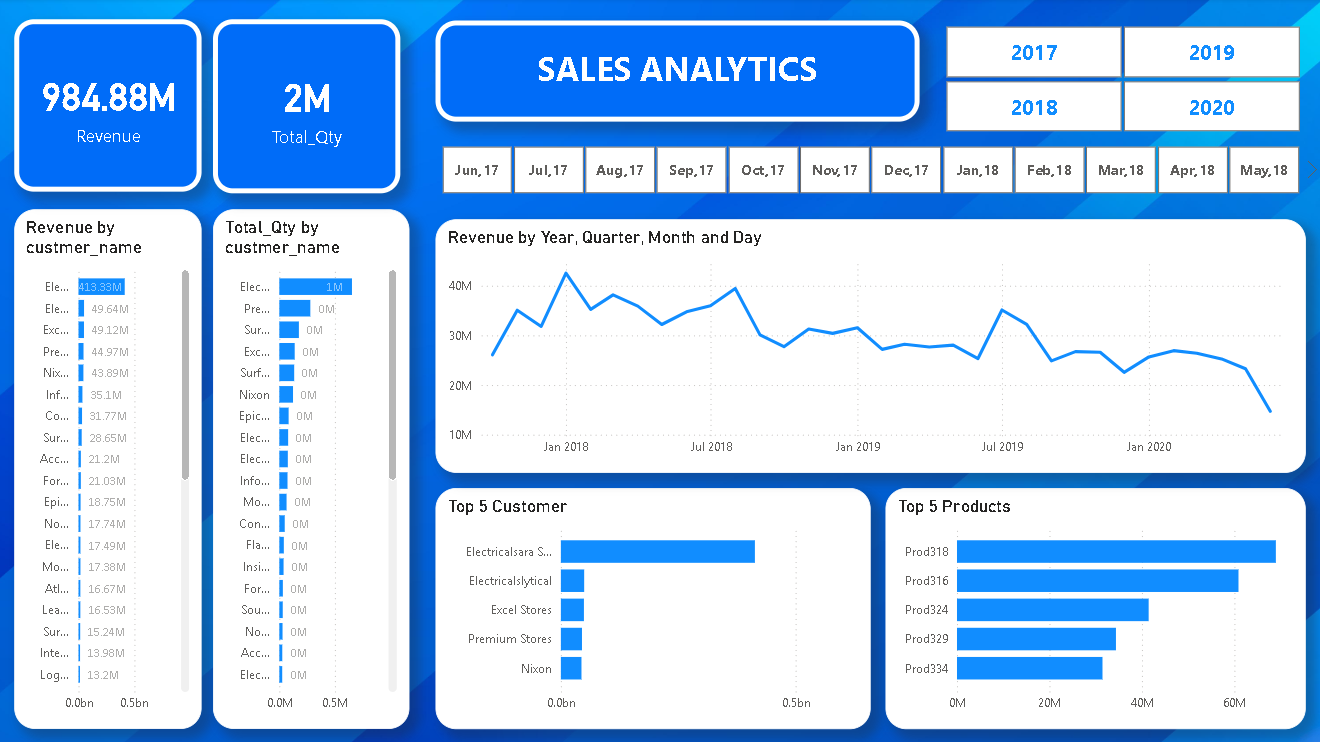

The dashboard page shown, as its layout file describes it:
{"tool":"powerbi","page":{"name":"Page 1","canvas":[1280,720],"ordinal":0},"visuals":[{"type":"barChart","fields":{"Category":["sales customers.custmer_name"],"Y":["measures (2).Revenue"]},"box":[15.7,203.9,181,501.9],"z":0},{"type":"barChart","fields":{"Category":["sales customers.custmer_name"],"Y":["measures (2).Total_Qty"]},"box":[207.5,203.9,189.4,501.9],"z":1000},{"type":"slicer","fields":{"Values":["sales date.year"]},"box":[889.2,20.6,391.1,115.3],"z":2000},{"type":"slicer","fields":{"Values":["sales date.cy_date"]},"box":[403.5,135.7,876.8,58.7],"z":3000},{"type":"barChart","title":"Top 5 Customer","fields":{"Category":["sales customers.custmer_name"],"Y":["measures (2).Revenue"]},"box":[422.3,472.9,419.8,232.8],"z":4000},{"type":"barChart","title":"Top 5 Products","fields":{"Category":["sales products.product_code"],"Y":["measures (2).Revenue"]},"box":[856.6,472.9,405.4,232.8],"z":5000},{"type":"lineChart","fields":{"Category":["sales date.cy_date.Variation.Date Hierarchy.Year","sales date.cy_date.Variation.Date Hierarchy.Quarter","sales date.cy_date.Variation.Date Hierarchy.Month","sales date.cy_date.Variation.Date Hierarchy.Day"],"Y":["measures (2).Revenue"]},"box":[422.3,213.5,839.7,244.9],"z":6000},{"type":"textbox","box":[422.3,21.7,466.9,97.7],"z":7000},{"type":"card","fields":{"Values":["measures (2).Revenue"]},"box":[15.7,20.5,181,166.5],"z":8000},{"type":"card","fields":{"Values":["measures (2).Total_Qty"]},"box":[207.5,20.5,181,167.7],"z":9000}]}

Visuals, with their boxes in screenshot pixels (x1, y1, x2, y2), scaled from the page's 1280x720 canvas onto the 1320x742 screenshot:
barChart - sales customers.custmer_name x measures (2).Revenue: x1=16 y1=210 x2=203 y2=727
barChart - sales customers.custmer_name x measures (2).Total_Qty: x1=214 y1=210 x2=409 y2=727
slicer - sales date.year: x1=917 y1=21 x2=1319 y2=140
slicer - sales date.cy_date: x1=416 y1=140 x2=1319 y2=200
"Top 5 Customer" barChart: x1=435 y1=487 x2=868 y2=727
"Top 5 Products" barChart: x1=883 y1=487 x2=1301 y2=727
lineChart - sales date.cy_date.Variation.Date Hierarchy.Year x sales date.cy_date.Variation.Date Hierarchy.Quarter: x1=435 y1=220 x2=1301 y2=472
textbox: x1=435 y1=22 x2=917 y2=123
card - measures (2).Revenue: x1=16 y1=21 x2=203 y2=193
card - measures (2).Total_Qty: x1=214 y1=21 x2=401 y2=194
